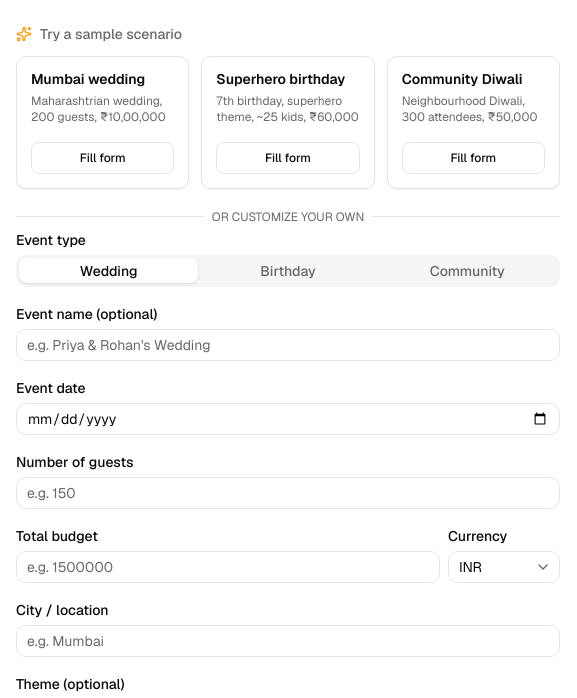
it: IntakeForm — render and type switching › switching to community changes the traditions label
Click the tab "community" at point(467, 270), box [378,258,557,283]
(page scrolled)
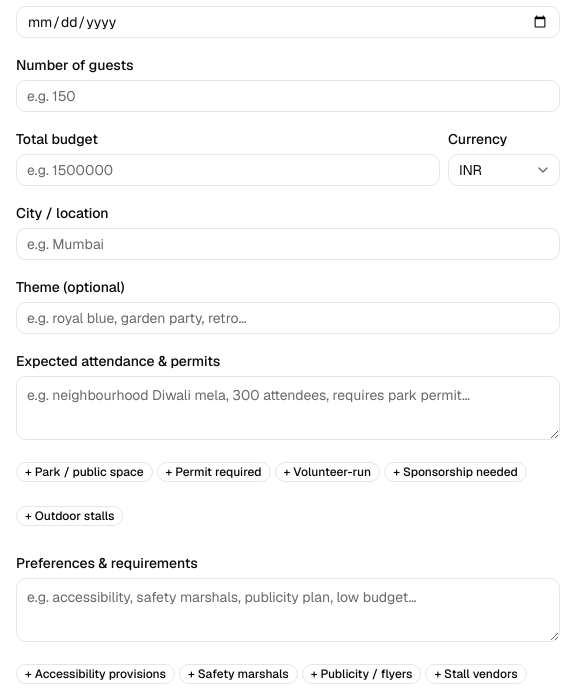
Now the text "Expected attendance & permits" is shown, box [16,352,220,370]
